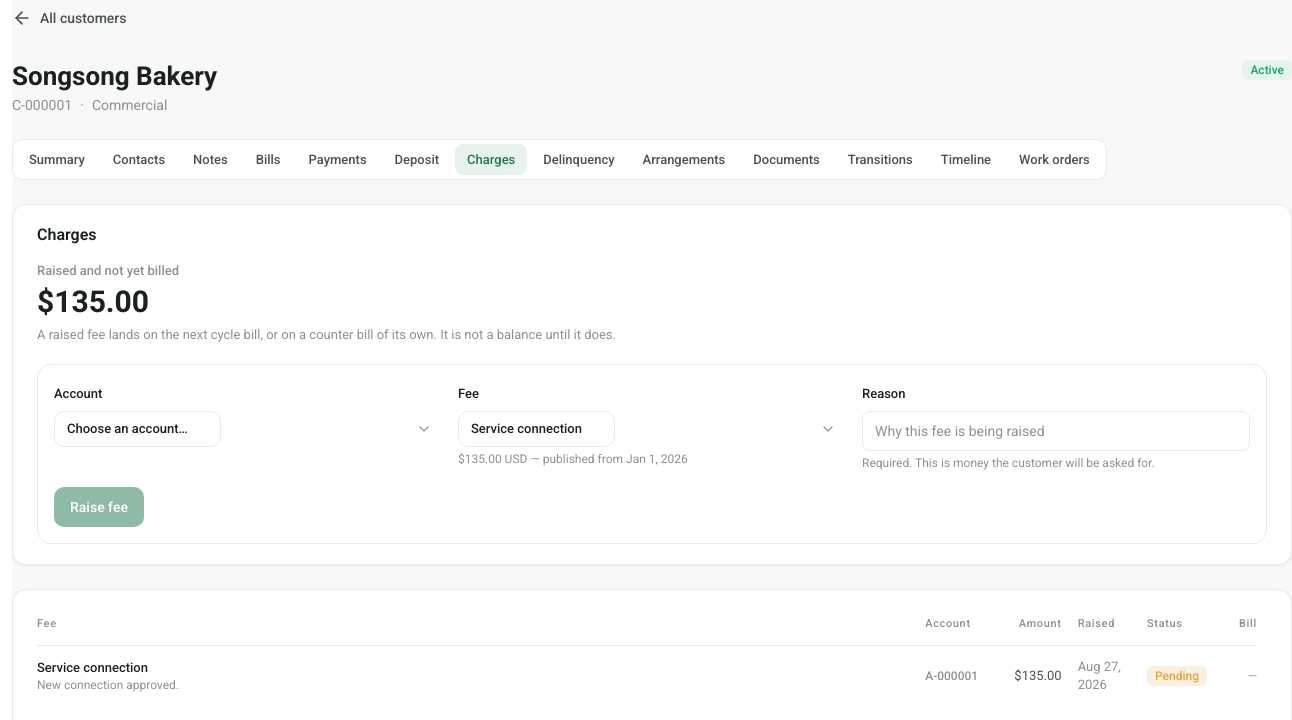
the charges tab › will not raise a fee without an account and a reason
Expected: the button "Raise fee" is disabled, x1=54 y1=487 x2=144 y2=527
Select "A-000001 · Active" in the dropdown labelled "Account" at (138, 429), box x1=54 y1=411 x2=221 y2=447
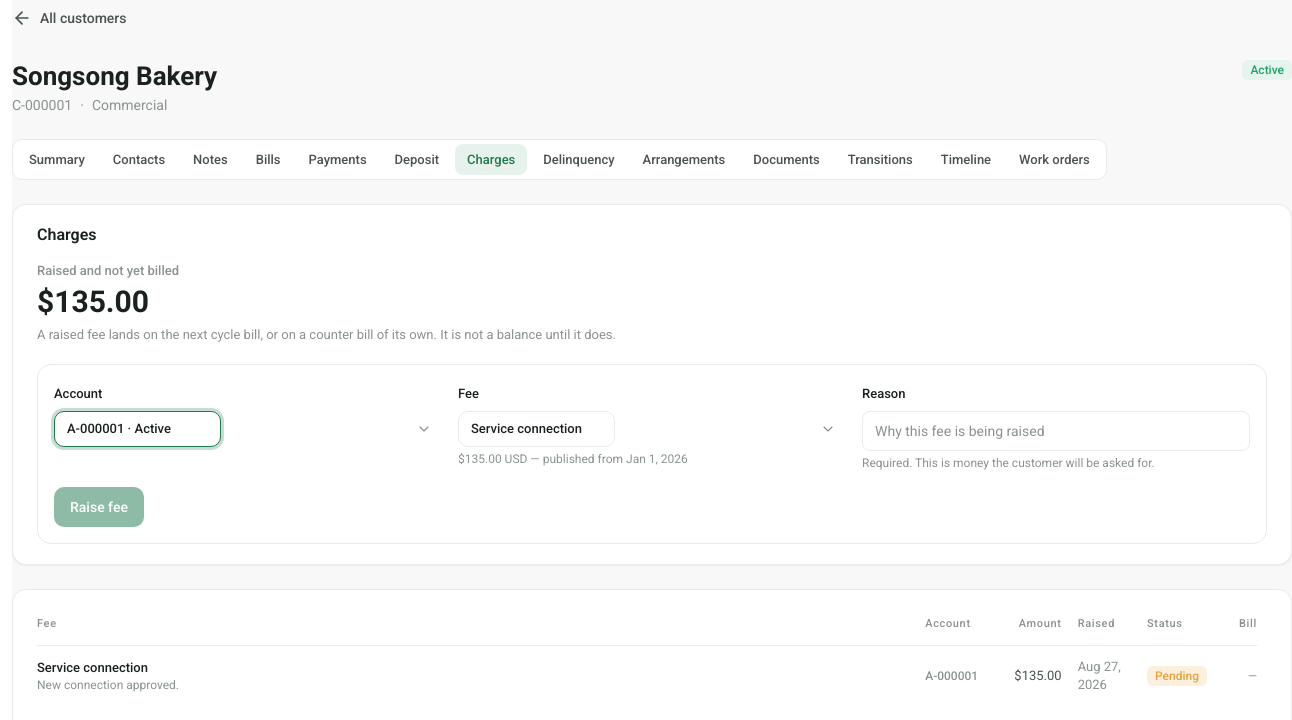
Expected: the button "Raise fee" is disabled, x1=54 y1=487 x2=144 y2=527
Type "New connection approved." into the field labelled "Reason" at (1056, 431), box x1=862 y1=411 x2=1250 y2=451
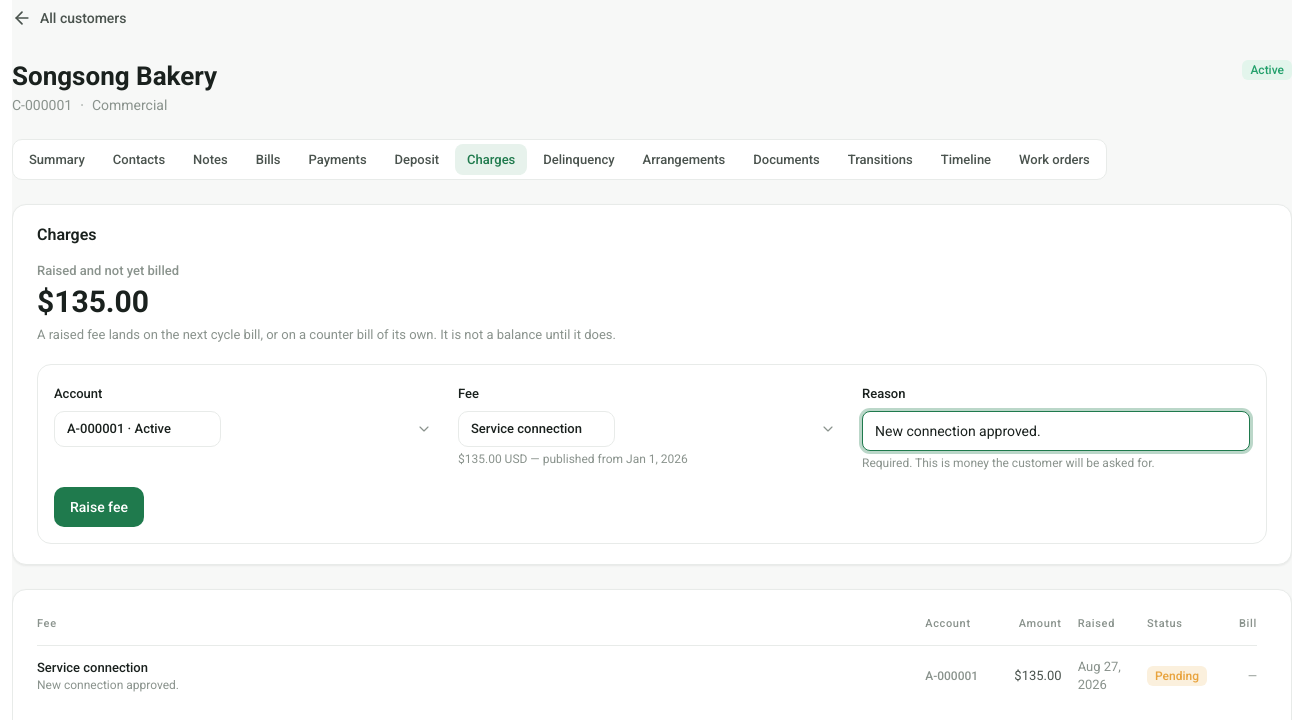
Now the button "Raise fee" is enabled, box x1=54 y1=487 x2=144 y2=527
